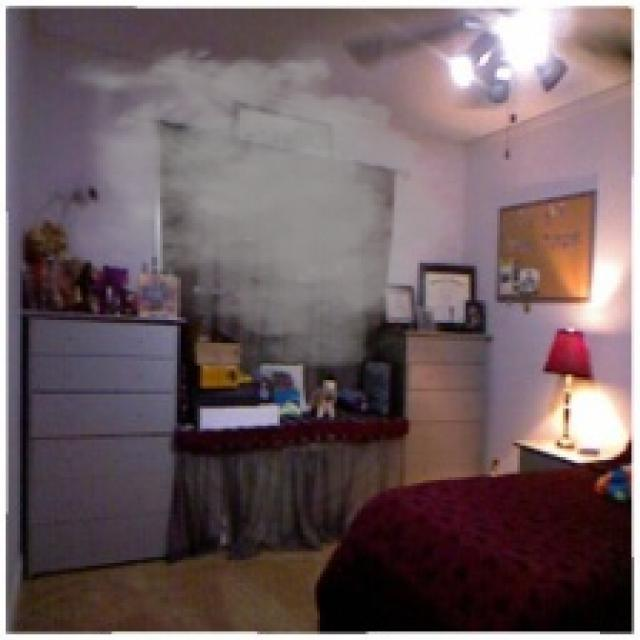Smoke: (51, 31, 472, 380)
